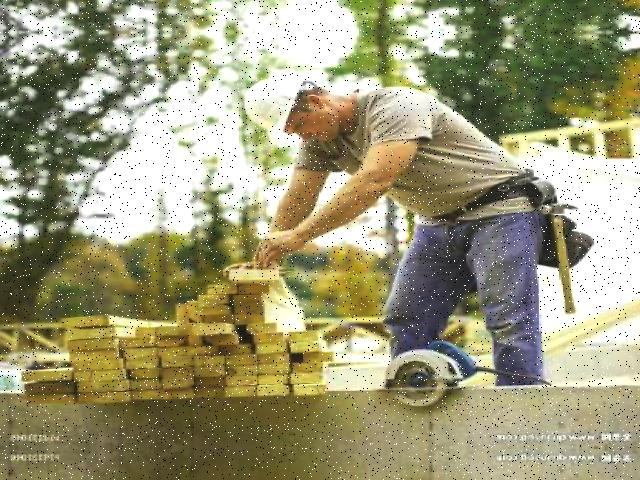Helmet: (239, 66, 322, 142)
